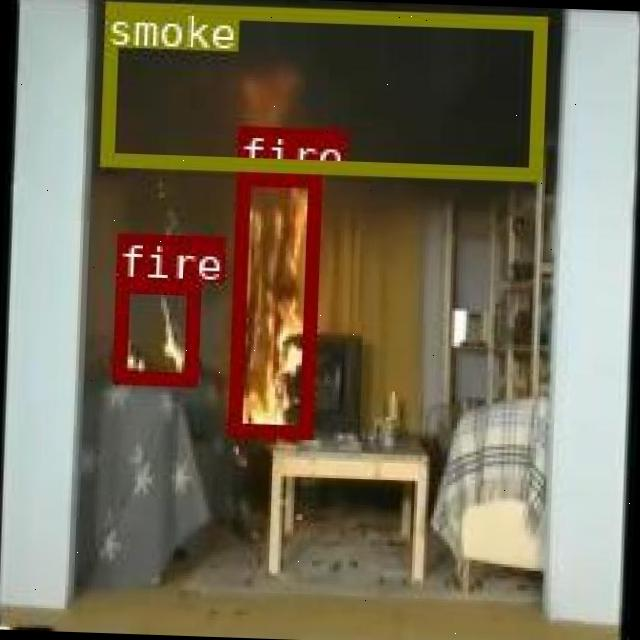fire: (227, 170, 317, 436), (112, 276, 196, 382)
smoke: (98, 0, 542, 178)
